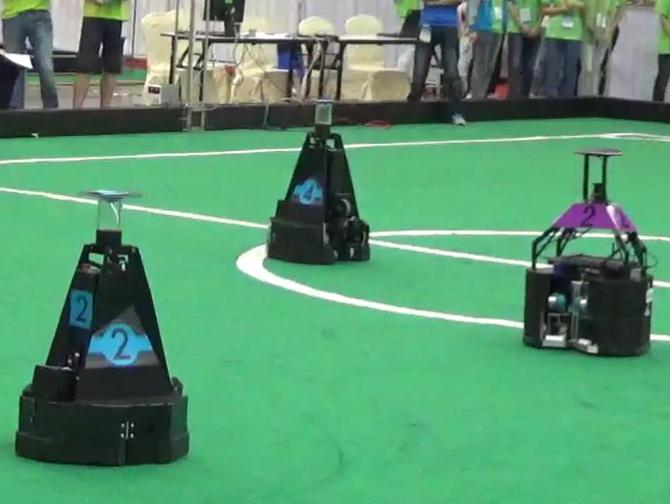robot: (11, 185, 194, 469), (523, 142, 657, 357), (262, 97, 375, 268)
